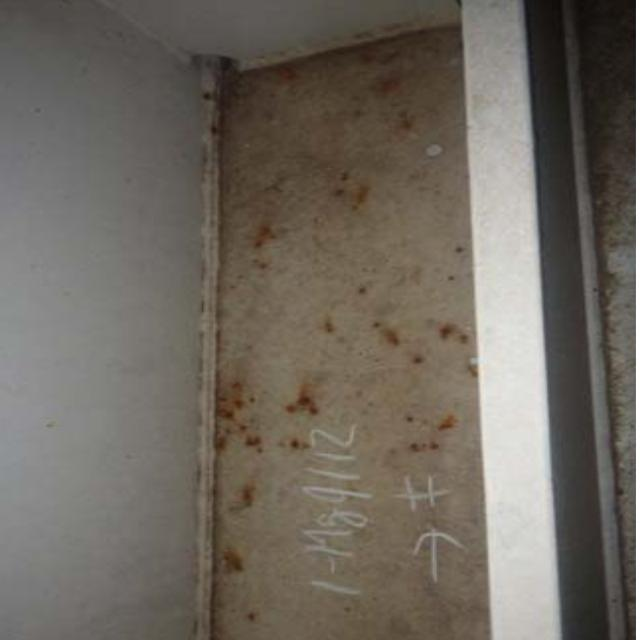corrosion: (193, 50, 461, 640)
